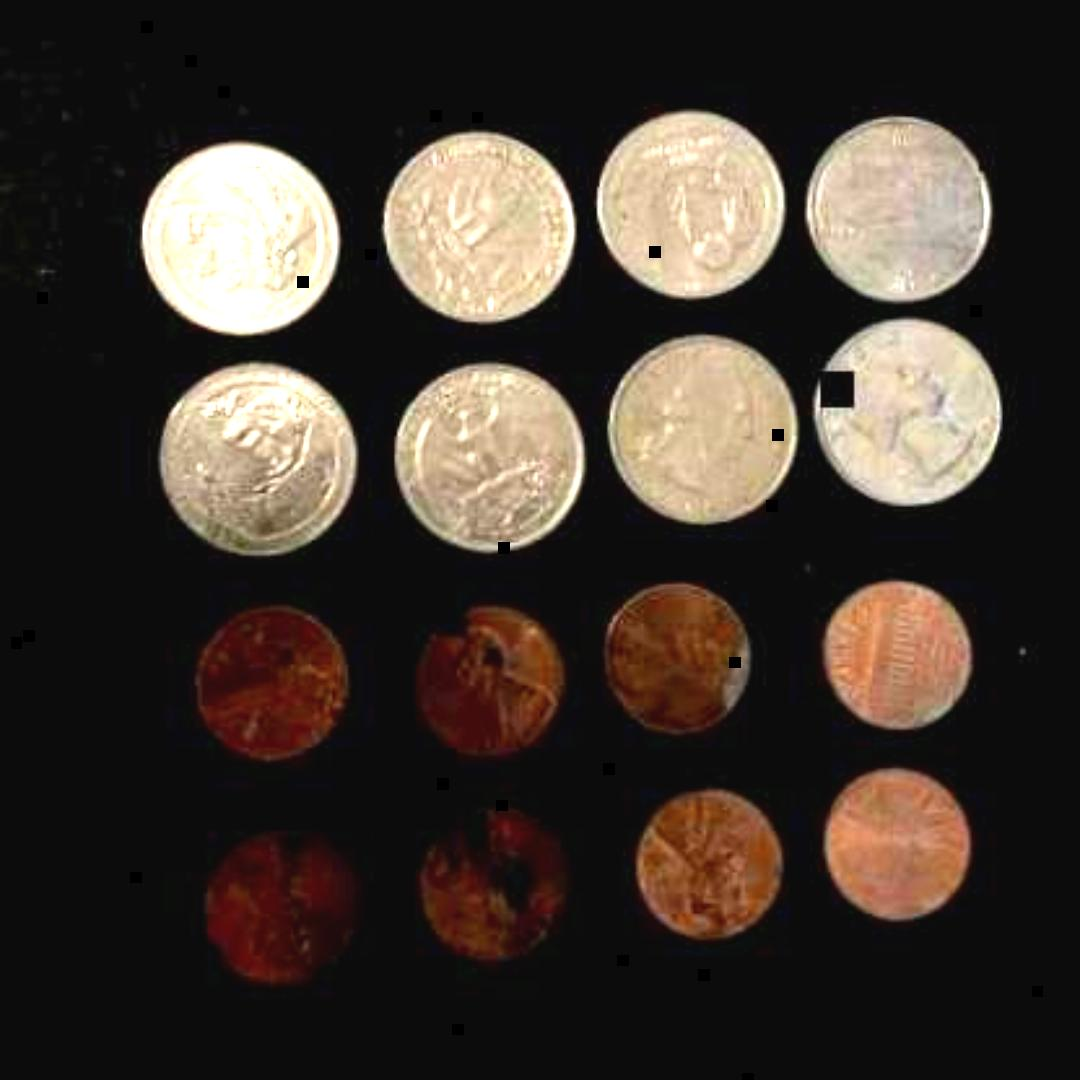Penny: (394, 795, 580, 981), (187, 816, 373, 1002), (186, 594, 360, 774), (402, 596, 574, 772), (620, 784, 794, 952), (590, 572, 758, 746), (810, 758, 978, 930), (812, 573, 980, 741)
Quarter: (382, 348, 600, 564), (146, 357, 370, 567), (132, 132, 350, 346), (583, 102, 795, 308), (369, 124, 581, 330), (598, 324, 806, 532), (806, 310, 1014, 516), (797, 105, 999, 307)
